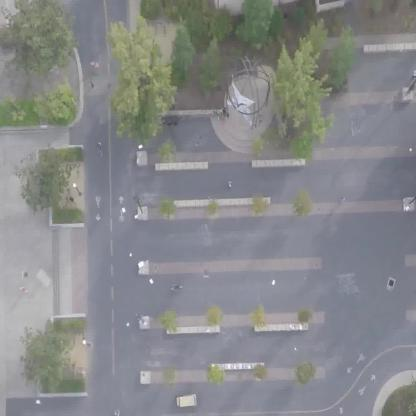Bicyclist: (88, 51, 102, 76), (166, 276, 180, 299), (93, 134, 104, 160), (335, 189, 350, 208), (15, 284, 28, 300)
Cart: (172, 392, 199, 408)
Pedestrian: (189, 128, 204, 153), (224, 175, 235, 193), (408, 66, 416, 87), (207, 111, 217, 120)
